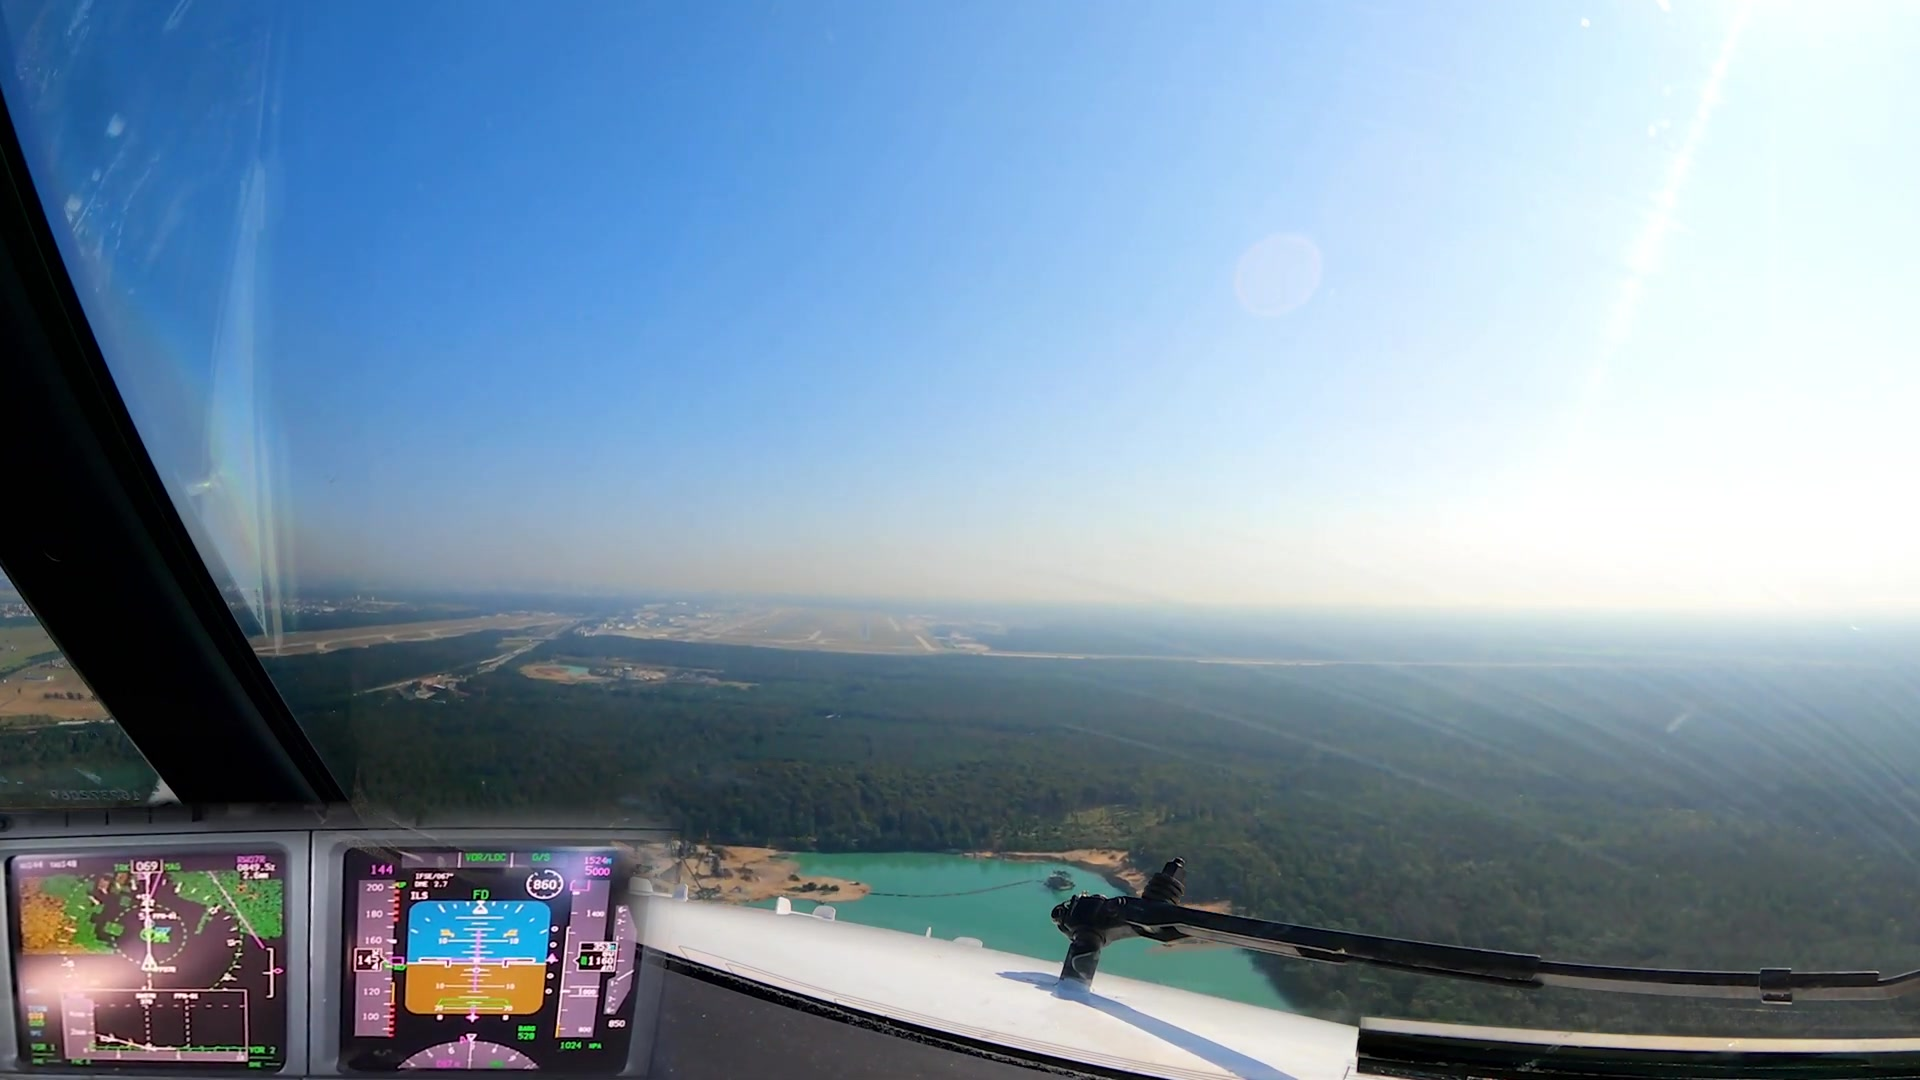runway: (855, 609, 873, 644)
